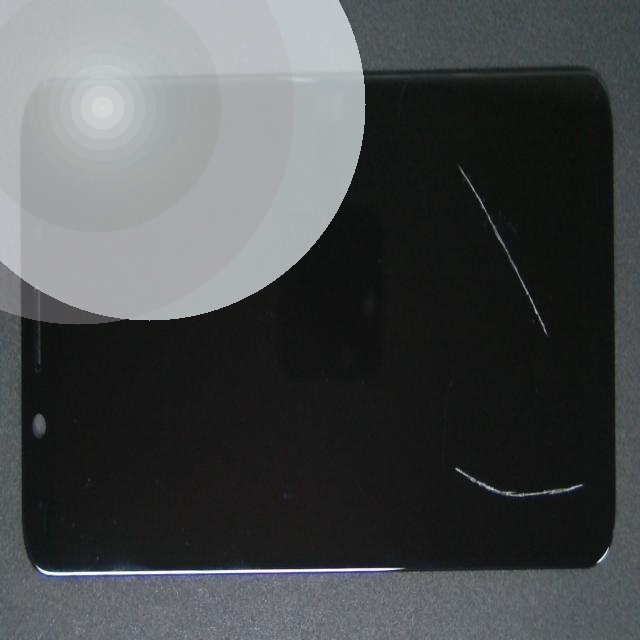scratch: (376, 246, 640, 640), (328, 251, 640, 389)
